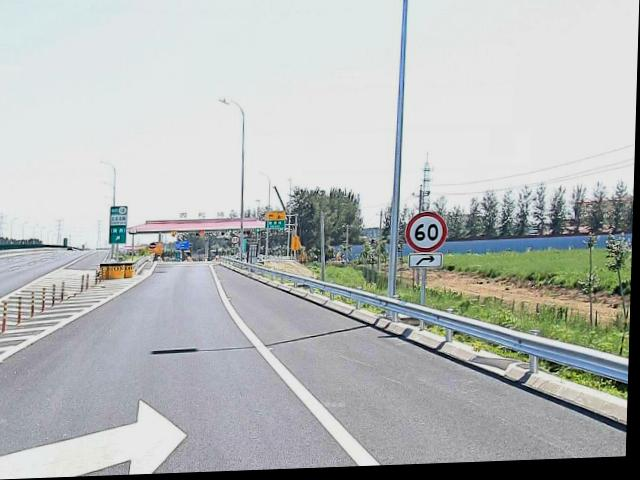limit60: (407, 211, 449, 257)
